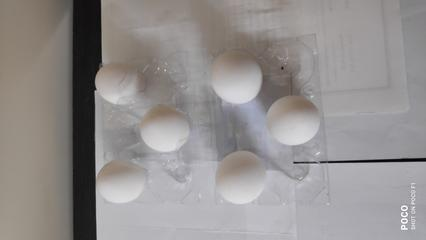eggs: (203, 50, 329, 210), (94, 64, 185, 203)
